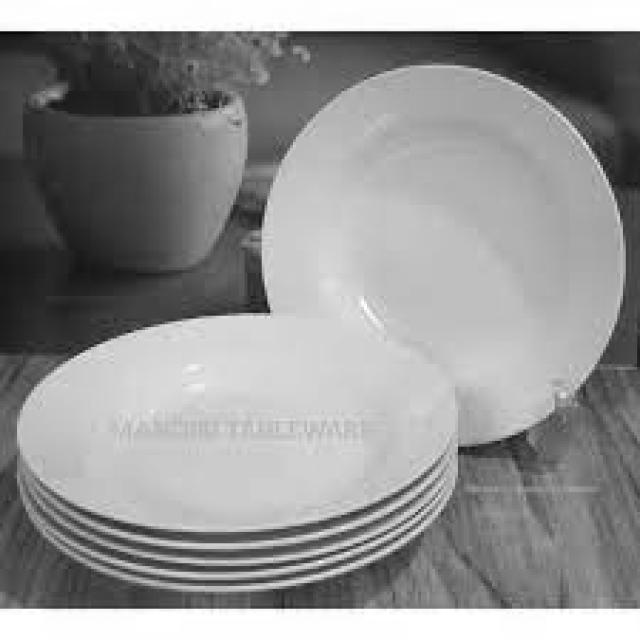dish: (8, 275, 494, 609)
